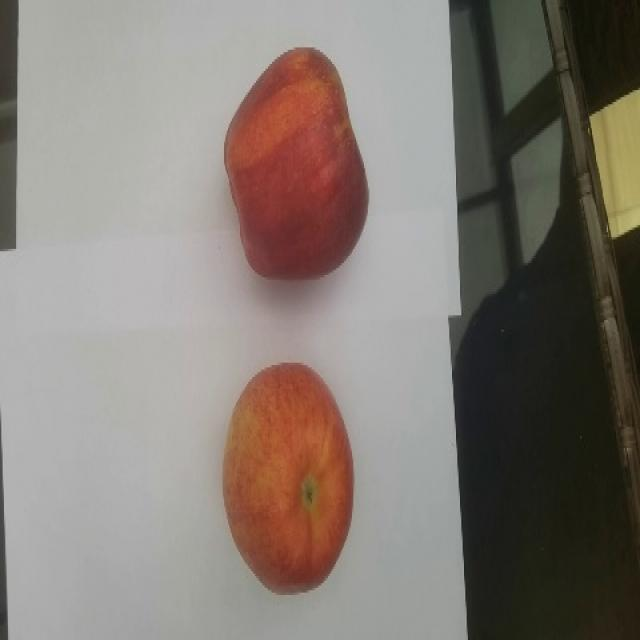Apple: (222, 45, 369, 281), (221, 361, 354, 595)
